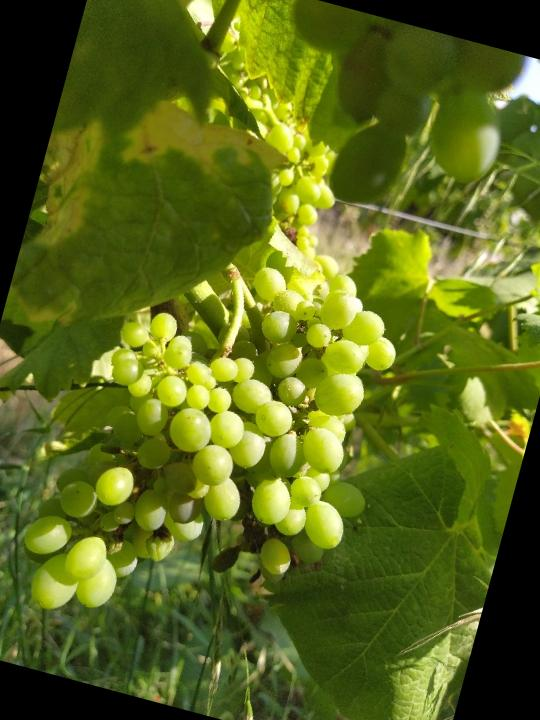grape: (4, 193, 431, 689)
